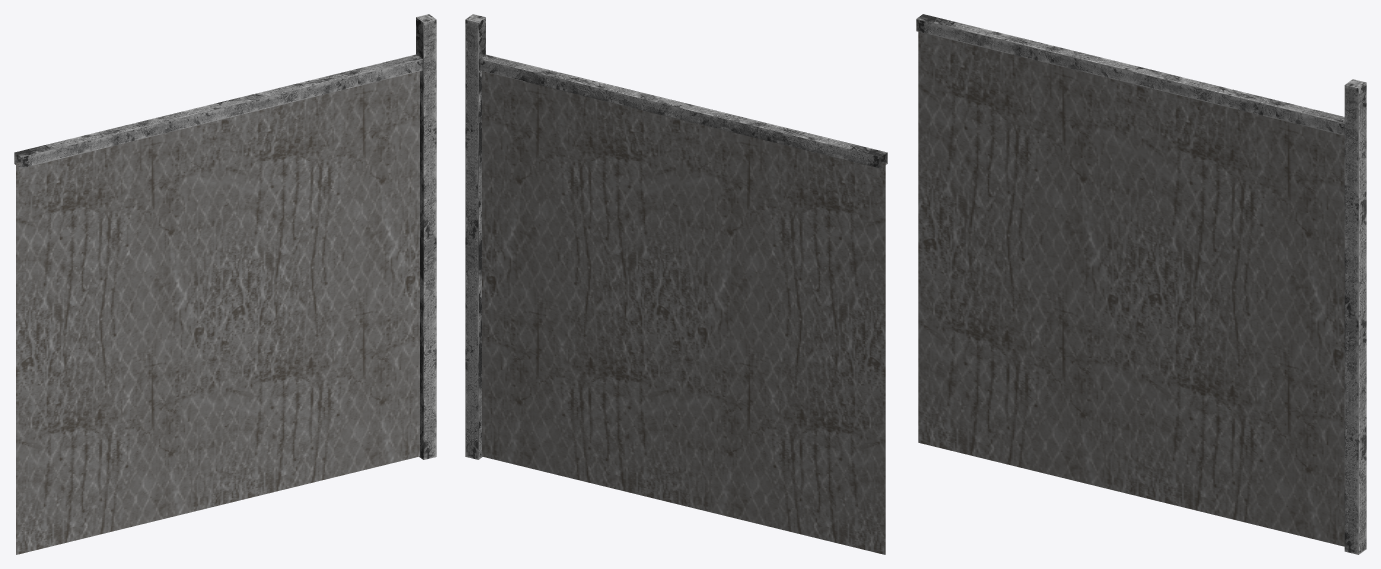
Rendered from Fence_Metal_2.fbx.
3 views of the same model, side by side, from view 1: azimuth 30°, elevation 25°; view 2: azimuth 150°, elevation 25°; view 3: azimuth 330°, elevation 25° (orthographic). The views are drawn at different scales.
Parts seen in each view (by area): view 1: Cerca1/2; view 2: Cerca1/2; view 3: Cerca1/2.
Boxes of the visible parts, x1,y1,x2,y2 form: Cerca1/2: (14,14,436,554); Cerca1/2: (465,14,887,554); Cerca1/2: (916,14,1366,554).
Size of the model in its own units: 258 by 259 by 8.06.
